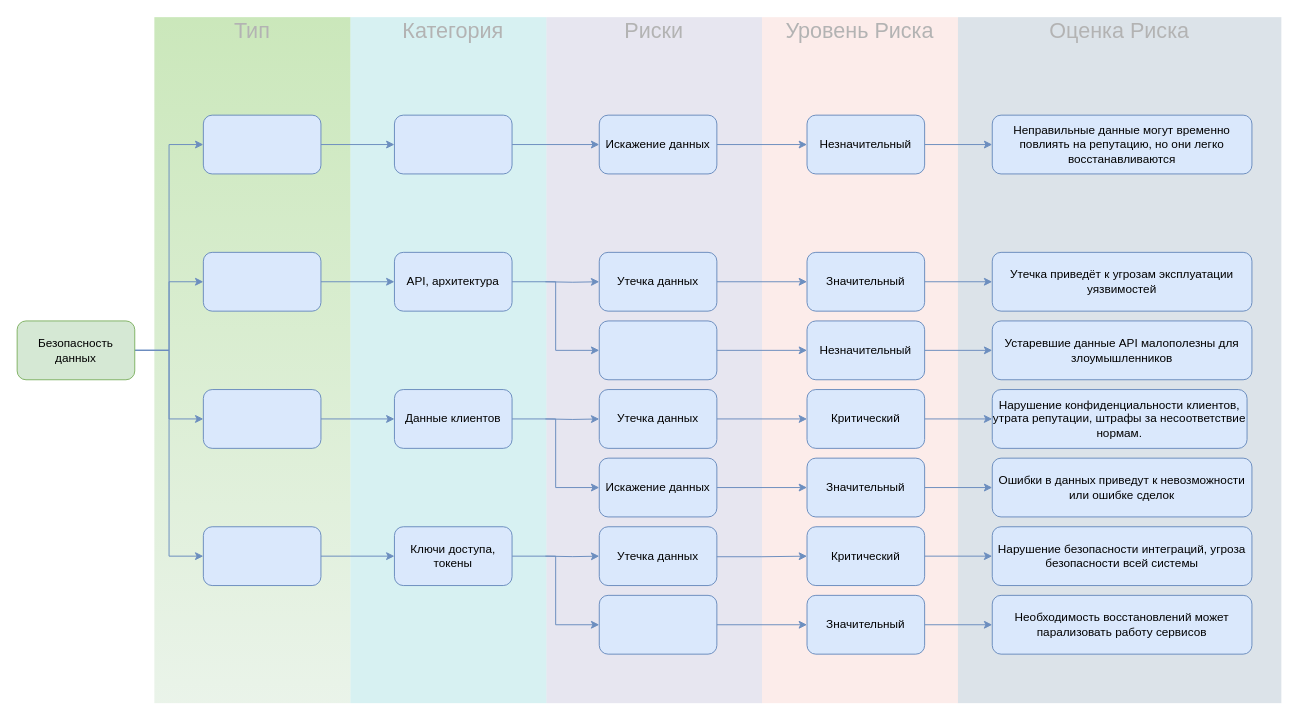
Some shapes in this 1299 by 719 pixel diagram are drawn without their labels. The centre of each missing label's shape, as x and y in pixels:
"Внутренние данные" goes at (x=261, y=281).
"Информация о недвижимости" goes at (x=452, y=144).
"Конфеденциальные данные" goes at (x=261, y=418).
"Обесценивание данных" goes at (x=657, y=350).
"Потеря данных" goes at (x=657, y=624).
"Публичные данные" goes at (x=261, y=144).
"Секретные данные" goes at (x=261, y=556).
